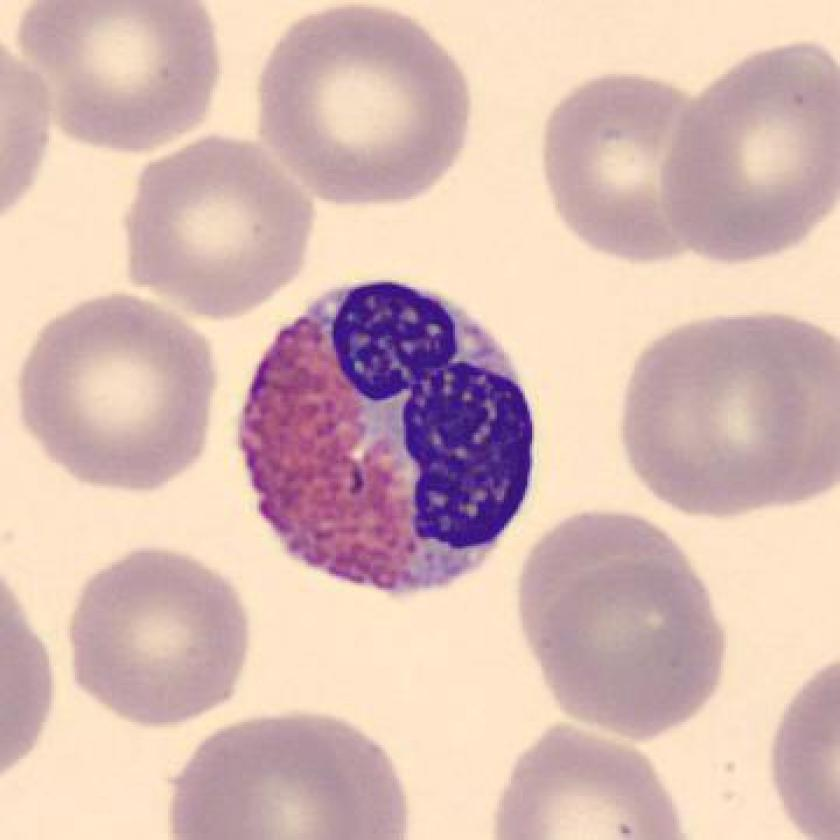eosinophil: (223, 267, 549, 607)
